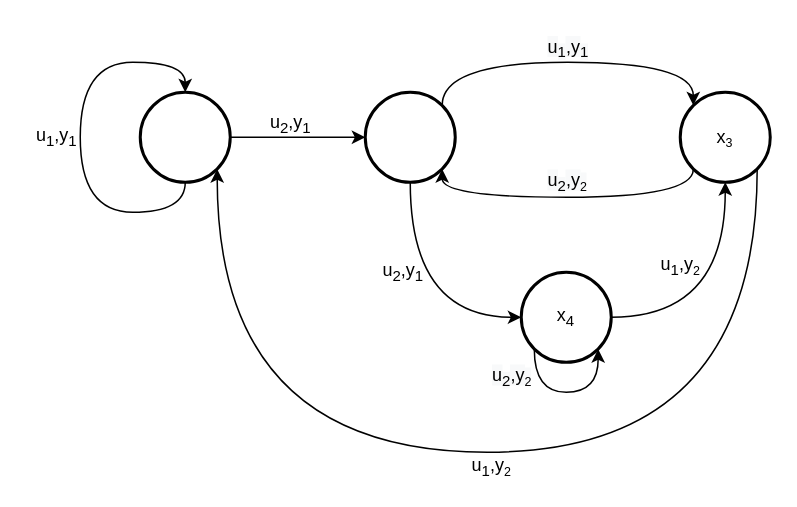
Some shapes in this 797 by 507 pixel diagram are drawn without their labels. The centre of each missing label's shape, as x and y in pixels:
x 1: the point at 184,136
x 2: the point at 409,136
